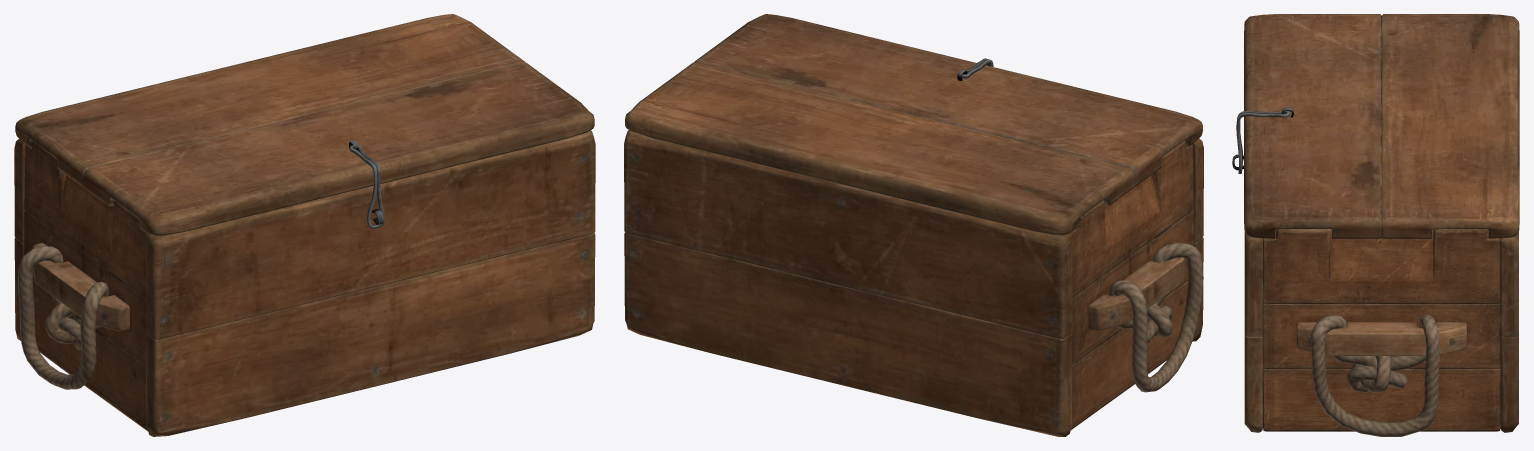
Rendered from wooden_crate_01.glb.
3 views of the same model, side by side, from view 1: azimuth 30°, elevation 25°; view 2: azimuth 150°, elevation 25°; view 3: azimuth 270°, elevation 25° (orthographic). The views are drawn at different scales.
Parts seen in each view (by area): view 1: wooden_crate_01, wooden_crate_01_lid, wooden_crate_01_latch; view 2: wooden_crate_01, wooden_crate_01_lid; view 3: wooden_crate_01_lid, wooden_crate_01, wooden_crate_01_latch.
Part boxes in pixels (box(x1,y1,x2,y2)): wooden_crate_01: box(14, 130, 595, 436); wooden_crate_01_lid: box(15, 14, 594, 236); wooden_crate_01_latch: box(349, 145, 384, 228); wooden_crate_01: box(624, 130, 1203, 436); wooden_crate_01_lid: box(625, 14, 1202, 235); wooden_crate_01_lid: box(1244, 14, 1519, 238); wooden_crate_01: box(1232, 154, 1518, 436); wooden_crate_01_latch: box(1236, 111, 1289, 173).
Size of the model in its own units: 0.8253 by 0.3496 by 0.409.
Materials: 1 (1 with a texture image).
